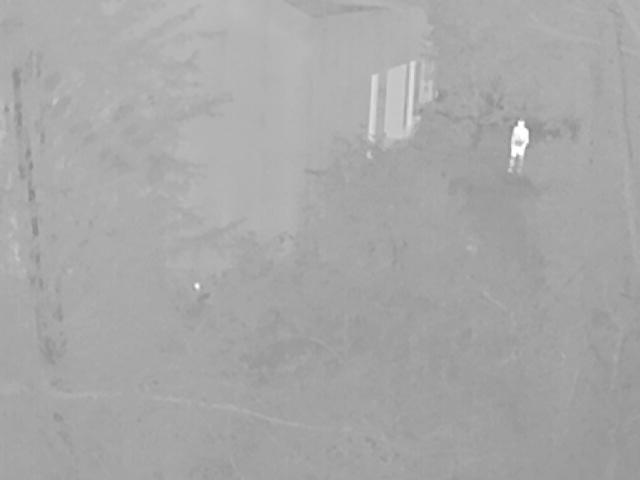person: (507, 118, 531, 175)
